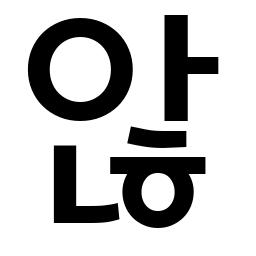Buri: (155, 7, 202, 30)
Gaji: (156, 48, 203, 82)
Kkokjijum: (123, 122, 191, 154)
Sangtu: (43, 13, 114, 49)
